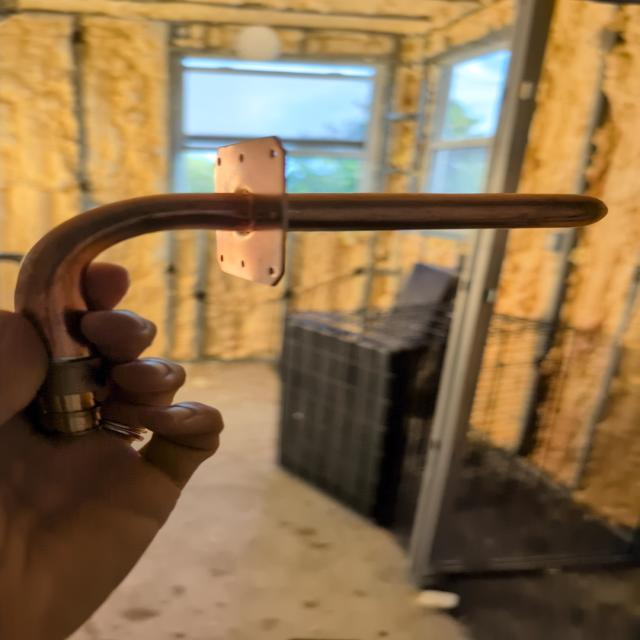wall_flange: (9, 135, 621, 443)
